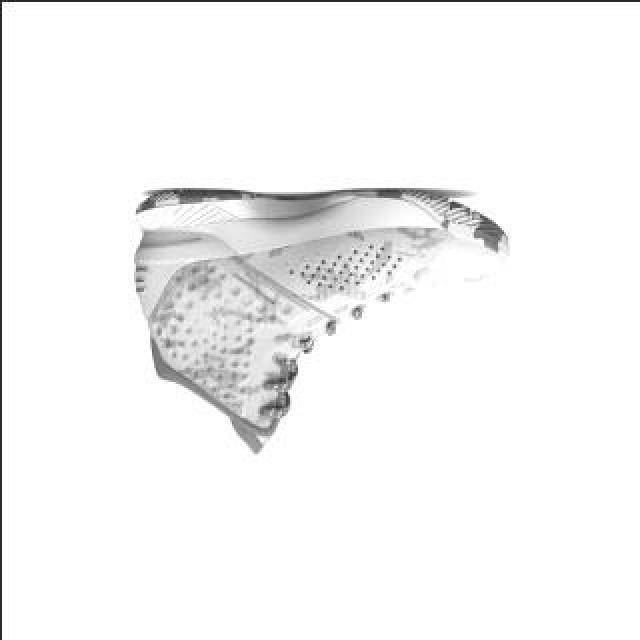shoe: (131, 191, 505, 455)
